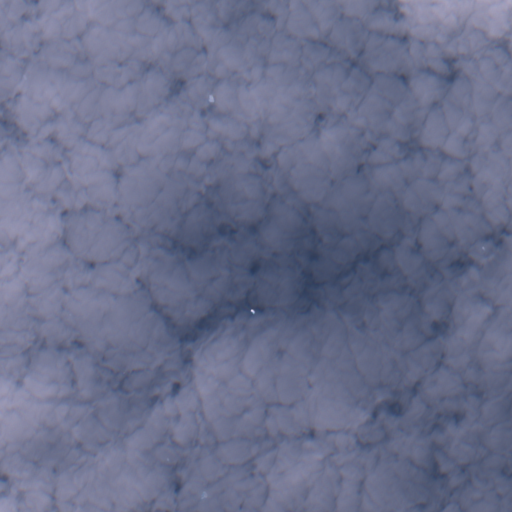Iceberg: (201, 491, 206, 498), (209, 95, 213, 101), (250, 309, 254, 314), (482, 247, 484, 249)
